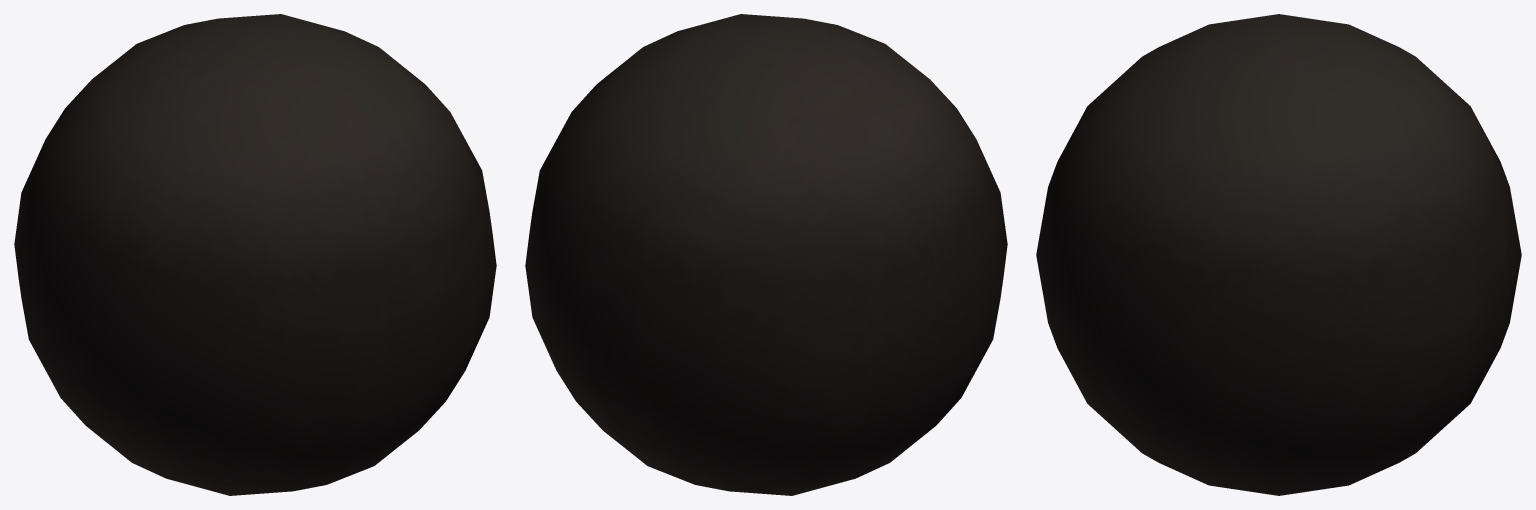
Rendered from shell.glb.
3 views of the same model, side by side, from view 1: azimuth 30°, elevation 25°; view 2: azimuth 150°, elevation 25°; view 3: azimuth 270°, elevation 25° (orthographic).
Parts seen in each view (by area): view 1: yadro; view 2: yadro; view 3: yadro.
Boxes of the visible parts, box(x1,y1,x2,y2) form: yadro: box(14, 14, 496, 495); yadro: box(525, 14, 1007, 495); yadro: box(1036, 14, 1521, 495).
Bounding box in the file's own units: 1.22 × 1.22 × 1.22.
Materials: 1 (1 with a texture image).
